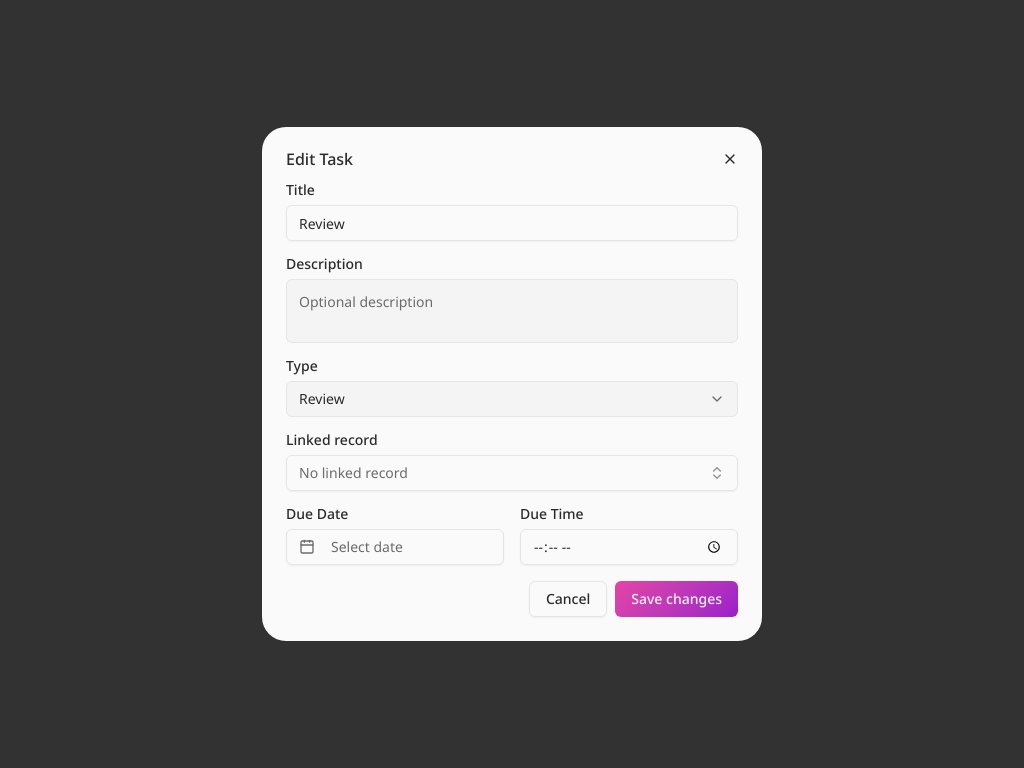
Test: TaskEditModal related record › leaves out record types the role cannot view instead of requesting them
This screenshot has width=1024, height=768.
Click the button "No linked record": (353,472) [286, 455, 738, 491]
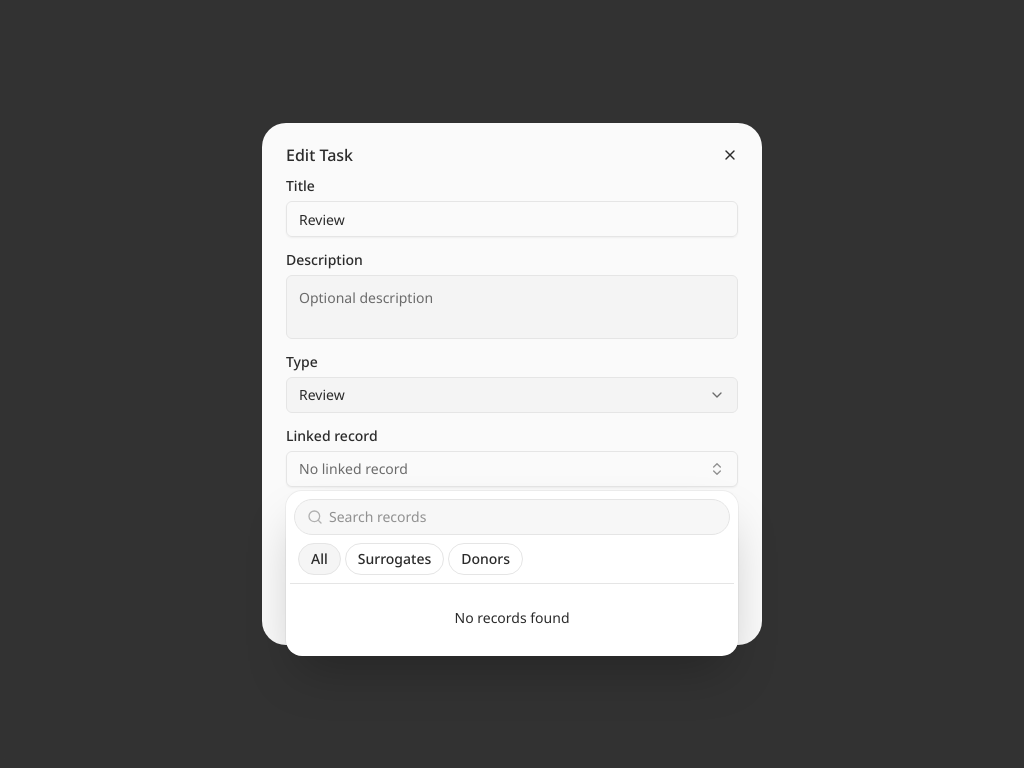
Now the button "Surrogates" is shown, box [345, 543, 444, 575]
Now the button "Donors" is shown, box [448, 543, 523, 575]
